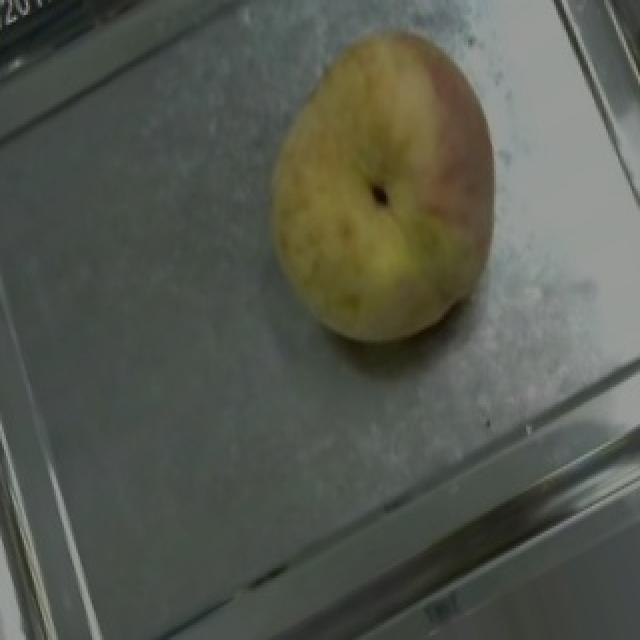Fruit: (220, 0, 552, 382)
